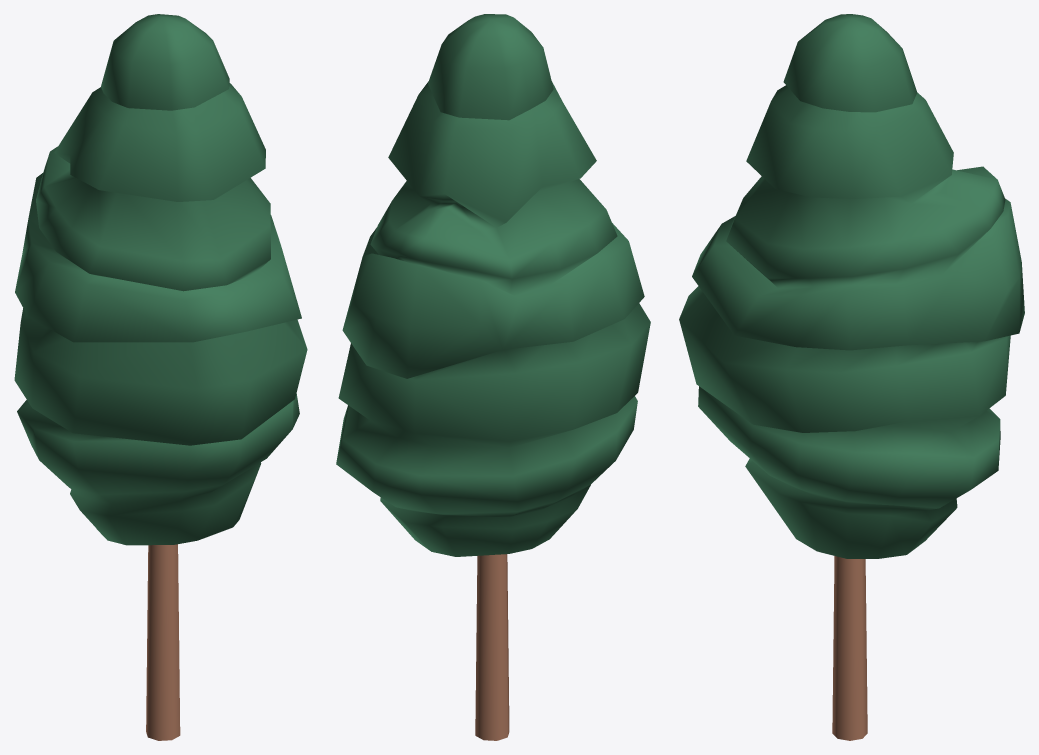
Rendered from TreeA1.fbx.
The picture shows the model from 3 angles, left to right: view 1: azimuth 30°, elevation 25°; view 2: azimuth 150°, elevation 25°; view 3: azimuth 270°, elevation 25°; orthographic projection.
Parts seen in each view (by area): view 1: Tree_A1; view 2: Tree_A1; view 3: Tree_A1.
Part boxes in pixels (left/top/right/bottom): Tree_A1: left=14, top=14, right=307, bottom=740; Tree_A1: left=336, top=14, right=650, bottom=740; Tree_A1: left=679, top=14, right=1024, bottom=740.
Size of the model in its own units: 99.59 by 265 by 116.
